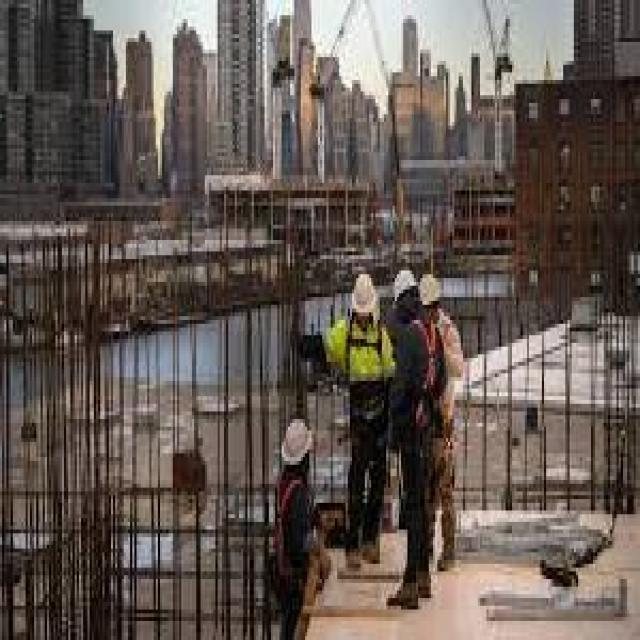Reflective-Jacket: (403, 308, 467, 449), (320, 308, 397, 423), (267, 468, 324, 606)
Safety-Helmet: (277, 408, 316, 472), (346, 263, 380, 320), (388, 259, 422, 309), (416, 267, 446, 316)
